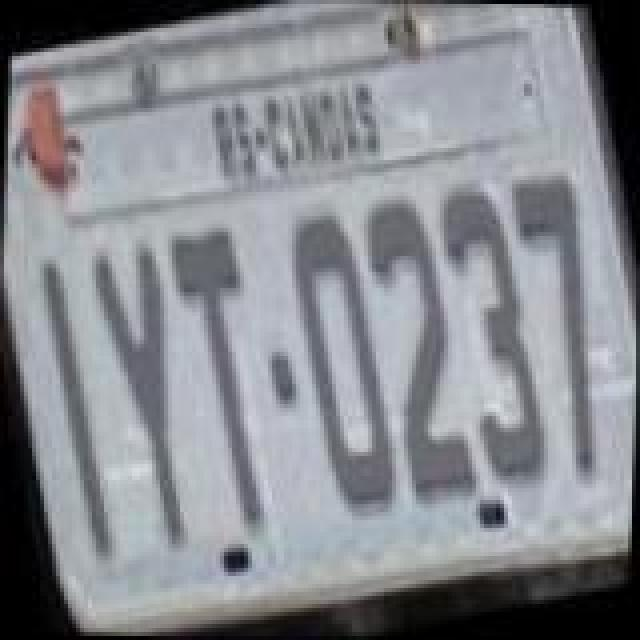1: (22, 254, 126, 562)
2: (346, 190, 494, 510)
3: (420, 174, 568, 490)
7: (494, 158, 638, 474)
O: (266, 204, 414, 520)
T: (156, 220, 300, 536)
Y: (74, 236, 222, 552)
